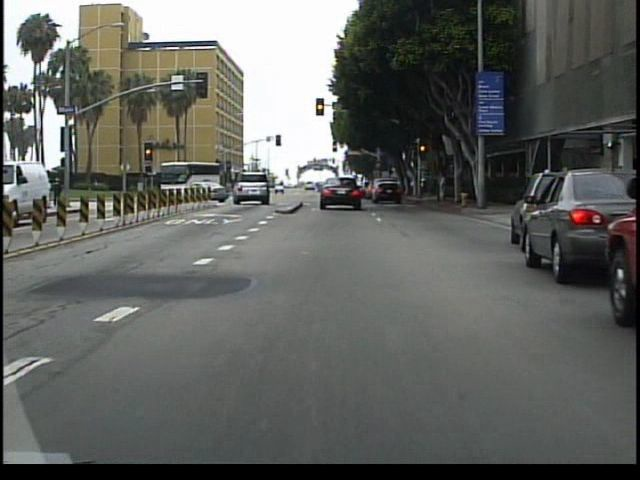person: (51, 173, 68, 211), (24, 171, 38, 206), (44, 175, 56, 212)
